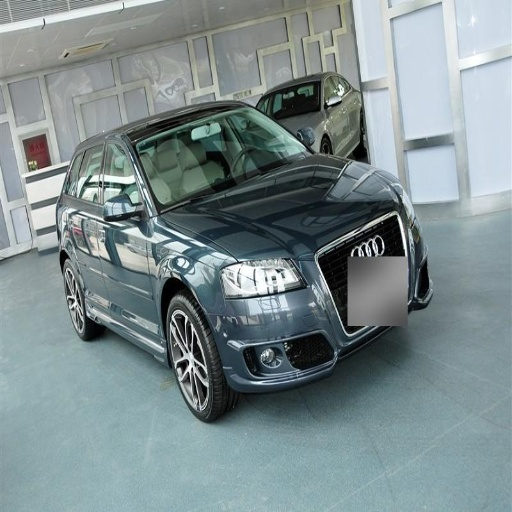back_left_light: (71, 149, 112, 311)
back_right_light: (205, 261, 341, 390), (347, 257, 408, 334)
front_bumper: (142, 107, 293, 207)
front_left_light: (102, 138, 158, 330)
front_right_door: (206, 252, 303, 296)
front_right_light: (167, 171, 302, 255)
right_mirror: (2, 15, 114, 75)
trunk: (165, 295, 227, 421), (61, 234, 94, 340)
